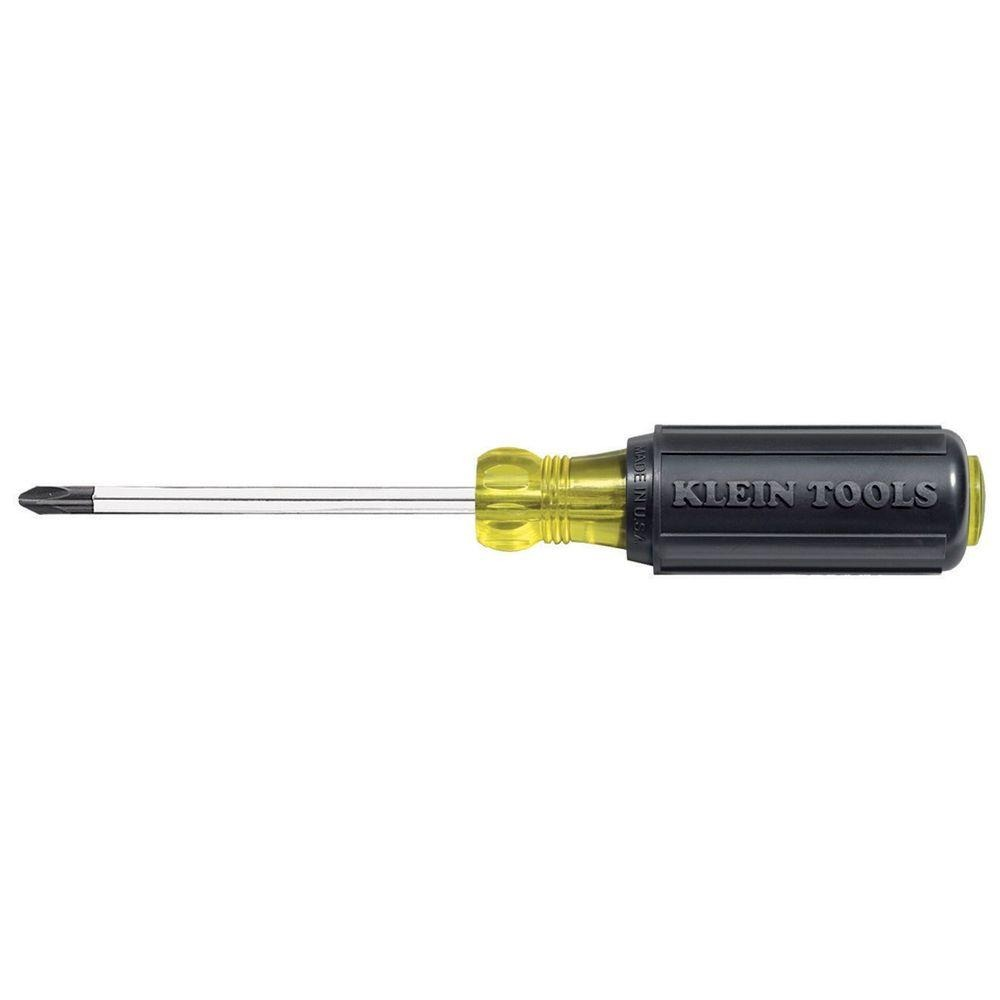screwdriver: (13, 414, 991, 596)
